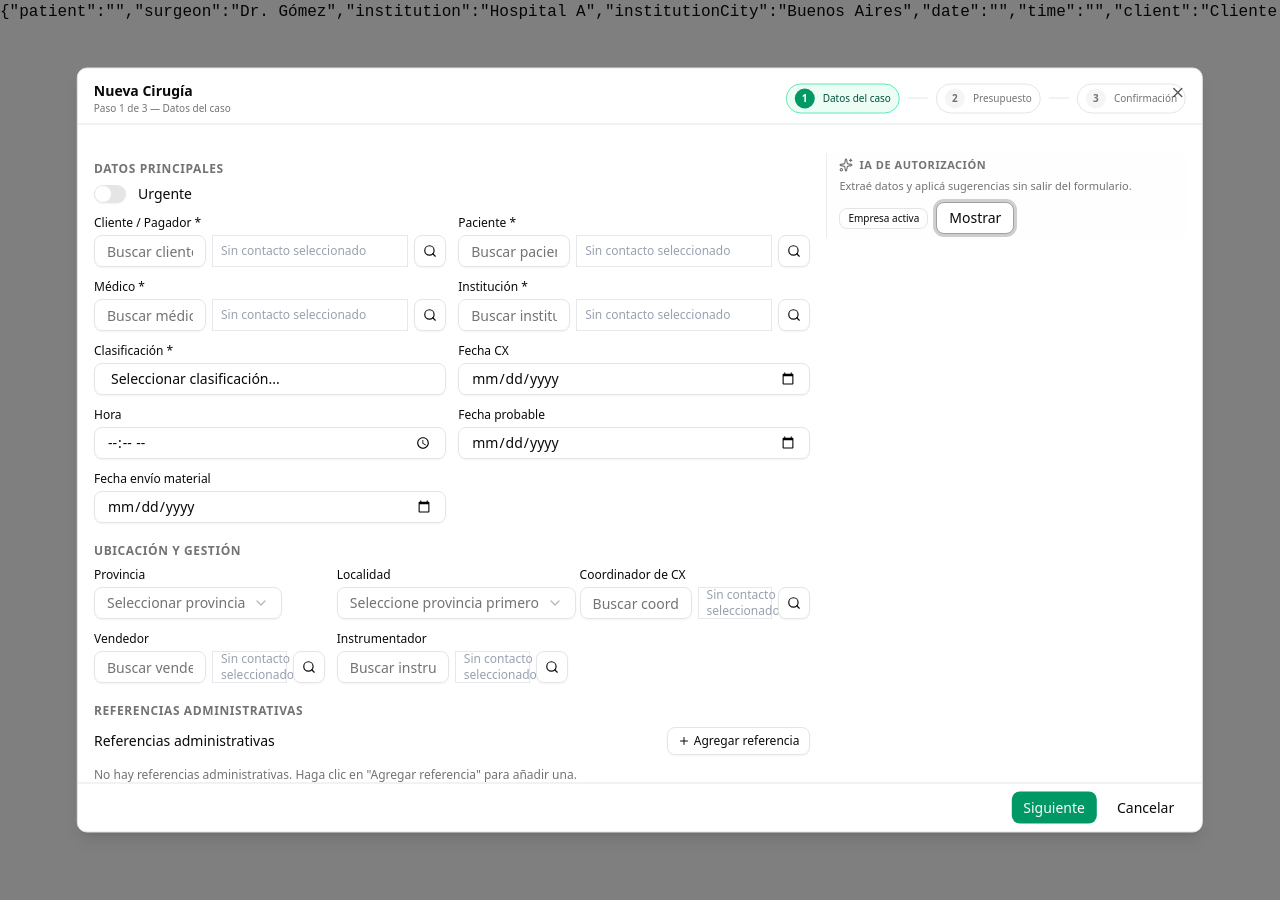
NewSurgeryDialog — NUEVA-CIRUGIA-IA-UX-P1 (Phase A, focused render) › renders MissingFieldsBar chips + 'Faltan 2 obligatorios' after Siguiente click on an empty patient/classification form (AC-01/AC-04)
What coordinates should you click on to do the following:
click the button with test id "wizard-next-btn"
I would click on:
 (1054, 808)
Its box is [1011,792,1097,824].
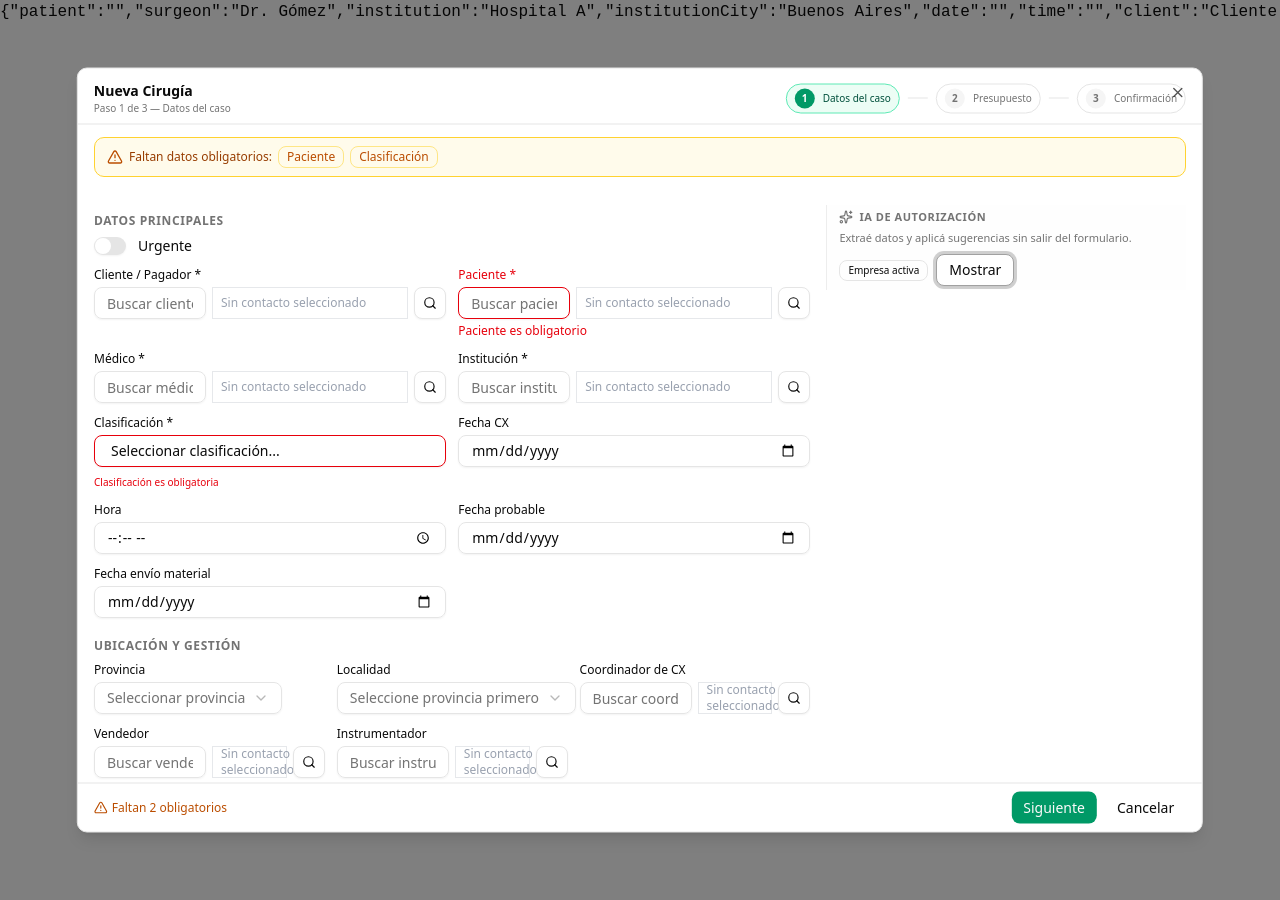
Result: the button "Paciente" is shown at [278,146,344,168]
Result: the button "Clasificación" is shown at [350,146,438,168]
Result: the text "Faltan 2 obligatorios" is shown at [94,798,227,816]
